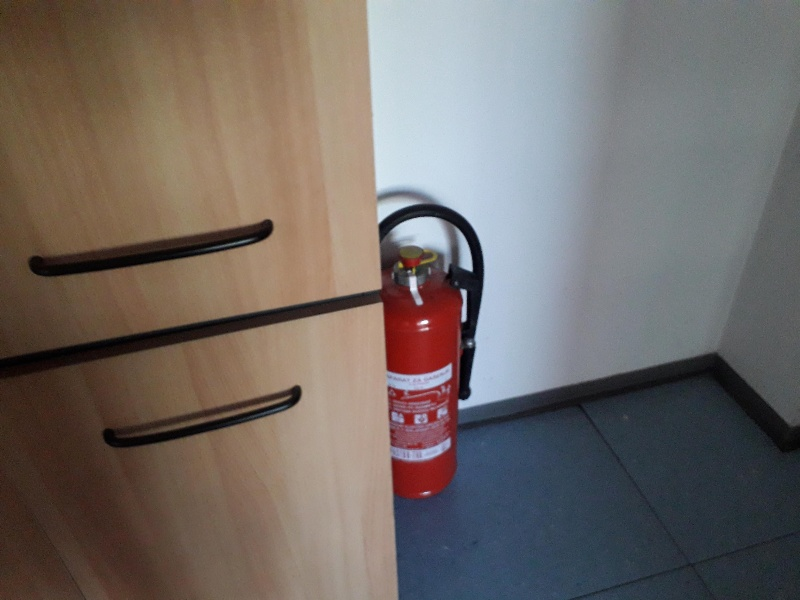vataparat: (380, 205, 485, 495)
